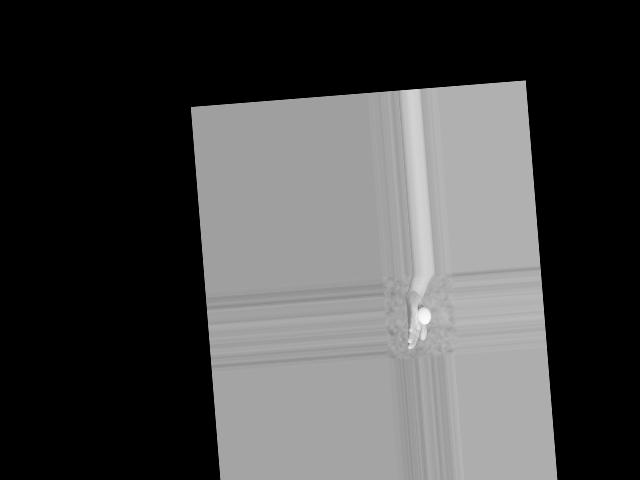egg: (416, 306, 431, 324)
